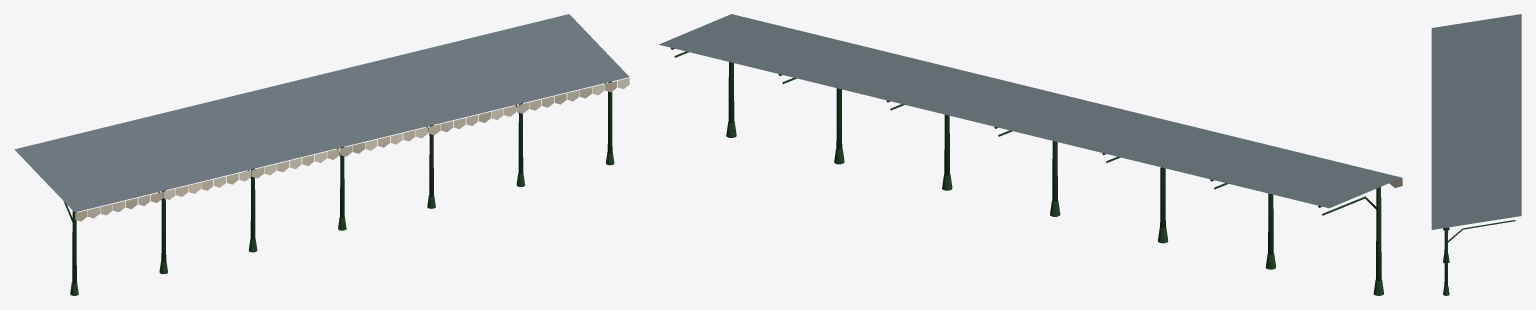
The model's file is station_canopy.glb.
3 views of the same model, side by side, from view 1: azimuth 30°, elevation 25°; view 2: azimuth 150°, elevation 25°; view 3: azimuth 270°, elevation 25° (orthographic). The views are drawn at different scales.
Visible parts, largest first — view 1: station_canopy_mesh; view 2: station_canopy_mesh; view 3: station_canopy_mesh.
Boxes of the visible parts, x1,y1,x2,y2 form: station_canopy_mesh: (14,14,629,295); station_canopy_mesh: (659,14,1402,295); station_canopy_mesh: (1431,14,1521,295).
Size of the model in its own units: 22.8 by 4.32 by 4.32.
